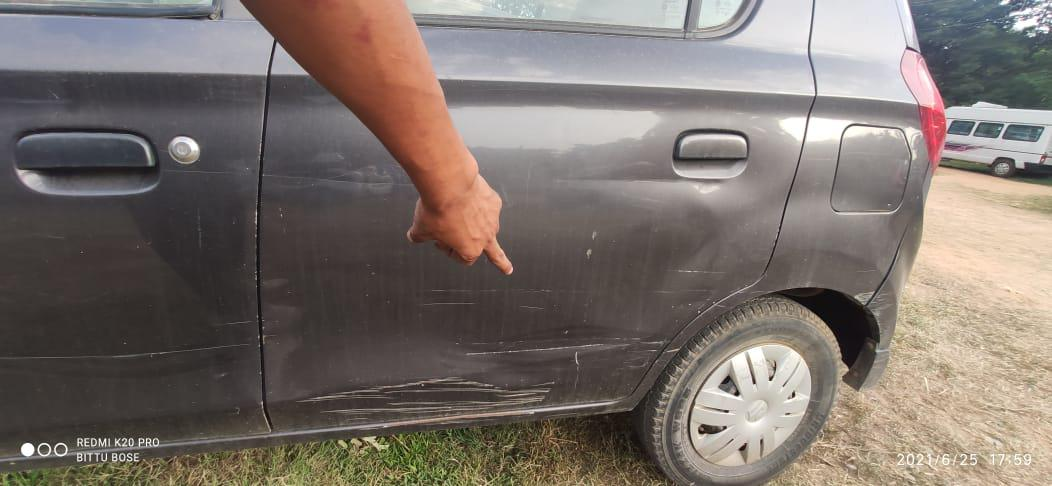doorouter-dent: (275, 22, 732, 413), (3, 16, 267, 440)
